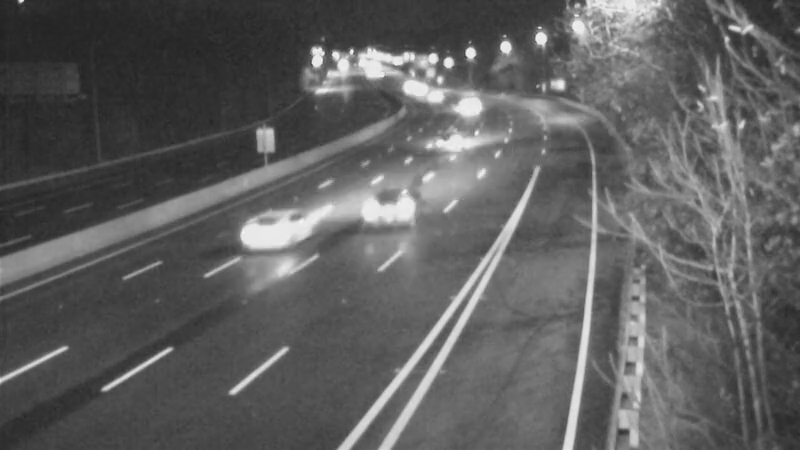vehicle: (352, 170, 432, 250), (231, 189, 311, 269), (374, 59, 424, 109), (394, 65, 444, 115), (407, 73, 457, 123), (436, 82, 486, 132), (421, 115, 471, 165)
